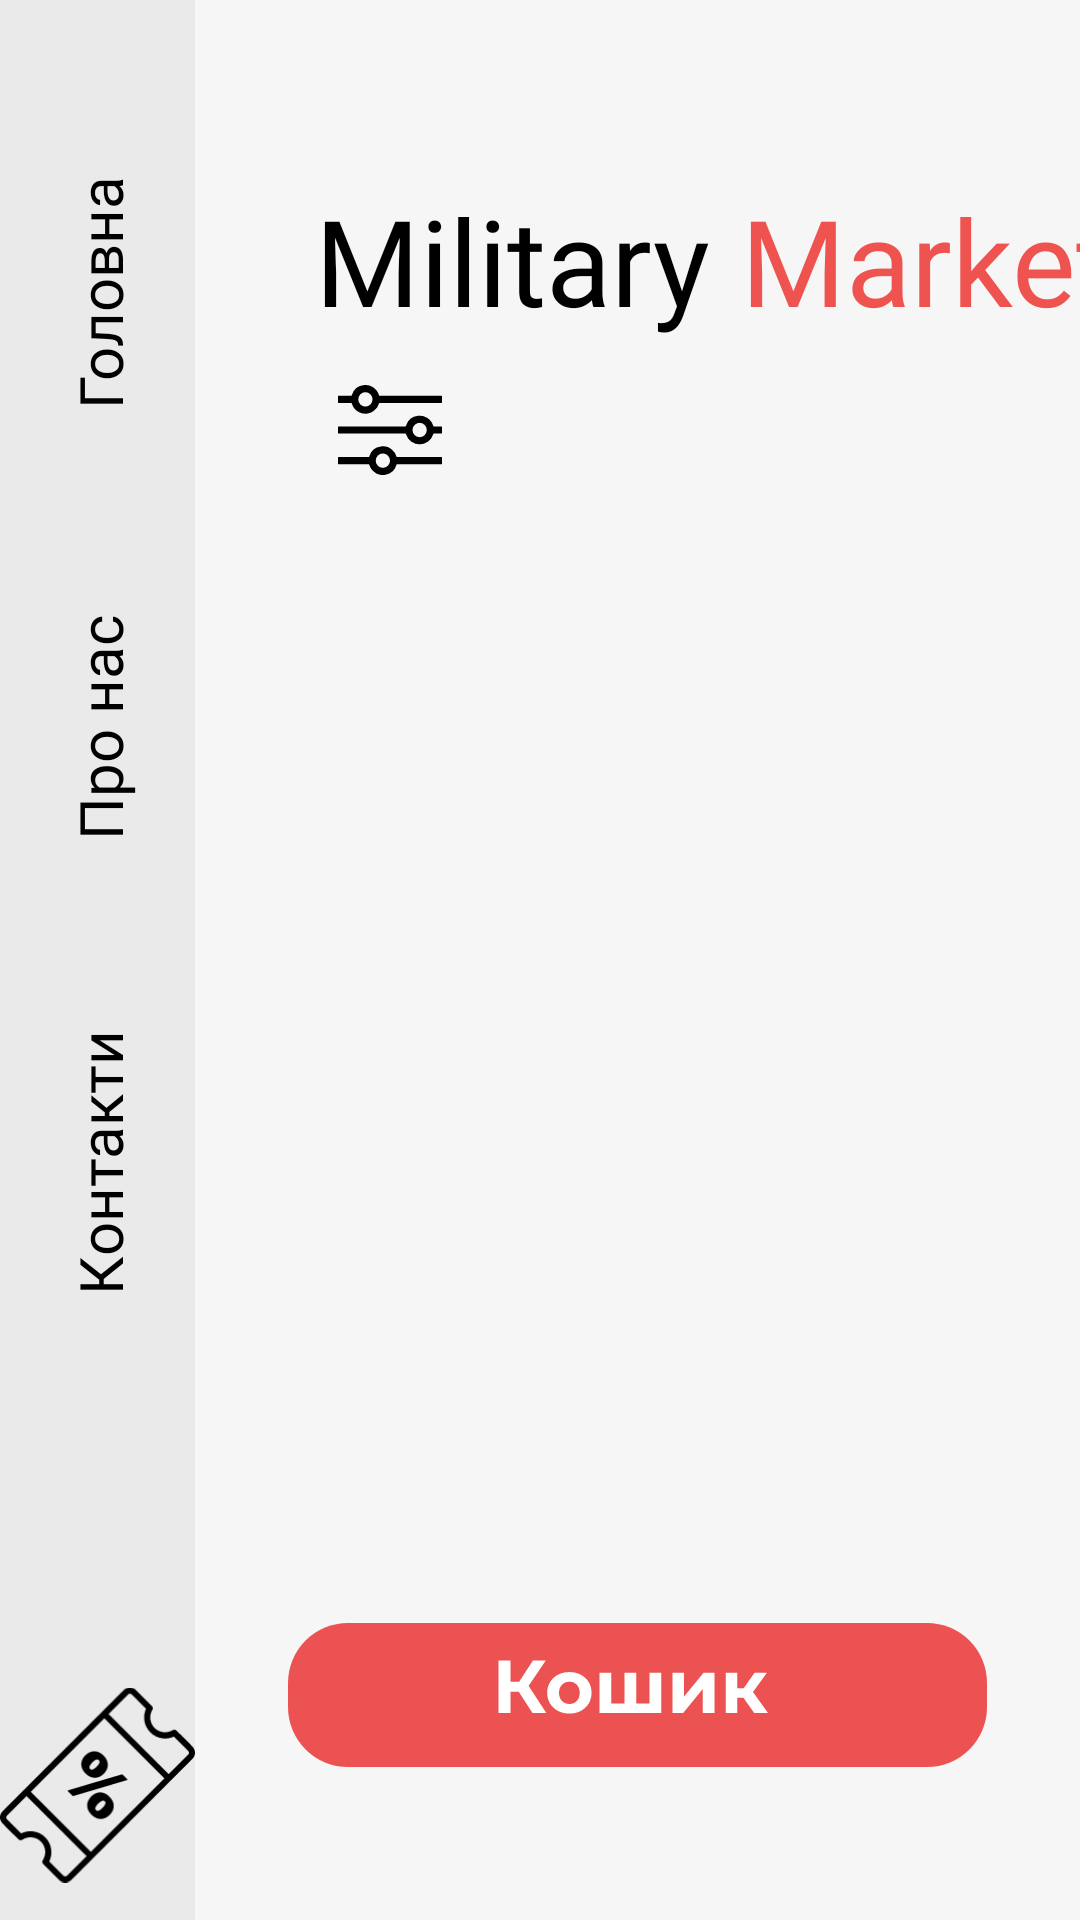

Locate icon controls on the screen. Image size 1080*1920, boxes as bbox(x1, y1, x2, y2).
Filter: bbox(338, 385, 442, 475)
Sales: bbox(0, 1688, 195, 1883)
